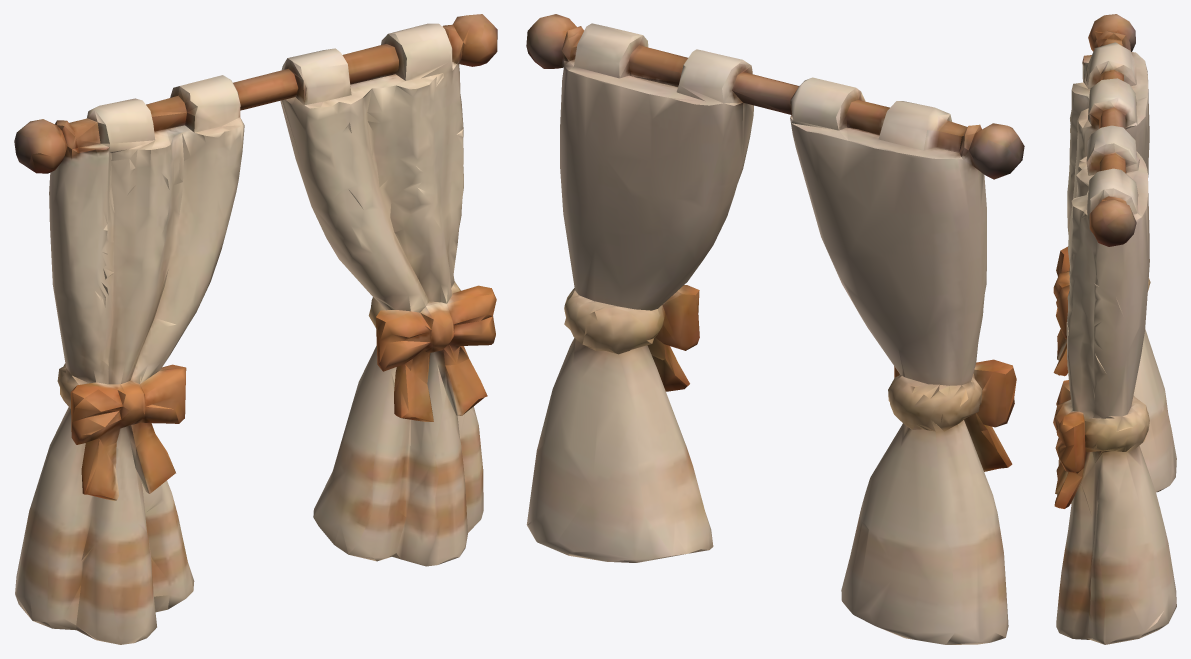
The model's file is curtain17.glb.
3 renders of one model, left to right at view 1: azimuth 30°, elevation 25°; view 2: azimuth 150°, elevation 25°; view 3: azimuth 270°, elevation 25°, orthographic. The views are drawn at different scales.
Size of the model in its own units: 0.2355 by 0.2426 by 0.0598.
Materials: 1 (1 with a texture image).
